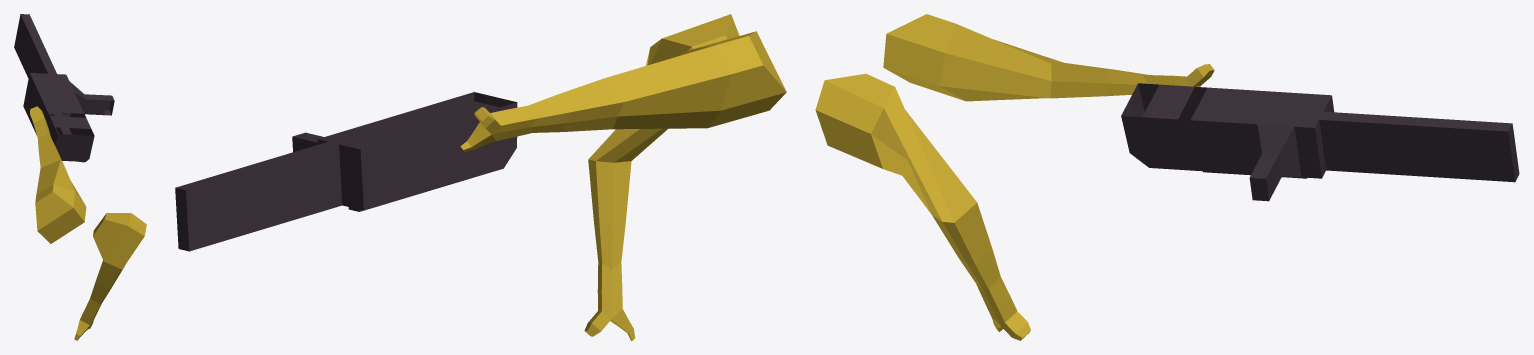
Rendered from arme_000174.obj.
3 renders of one model, left to right at view 1: azimuth 30°, elevation 25°; view 2: azimuth 150°, elevation 25°; view 3: azimuth 270°, elevation 25°, orthographic. The views are drawn at different scales.
Parts seen in each view (by area): view 1: Cube.048_Cube.024, Cube.046_Cube.010; view 2: Cube.048_Cube.024, Cube.046_Cube.010; view 3: Cube.046_Cube.010, Cube.048_Cube.024.
Boxes of the visible parts, x1,y1,x2,y2 form: Cube.048_Cube.024: (30, 106, 146, 340); Cube.046_Cube.010: (14, 14, 114, 162); Cube.048_Cube.024: (460, 14, 786, 340); Cube.046_Cube.010: (175, 92, 517, 251); Cube.046_Cube.010: (1121, 83, 1519, 201); Cube.048_Cube.024: (815, 14, 1214, 340).
Size of the model in its own units: 1240 by 1168 by 2568.
